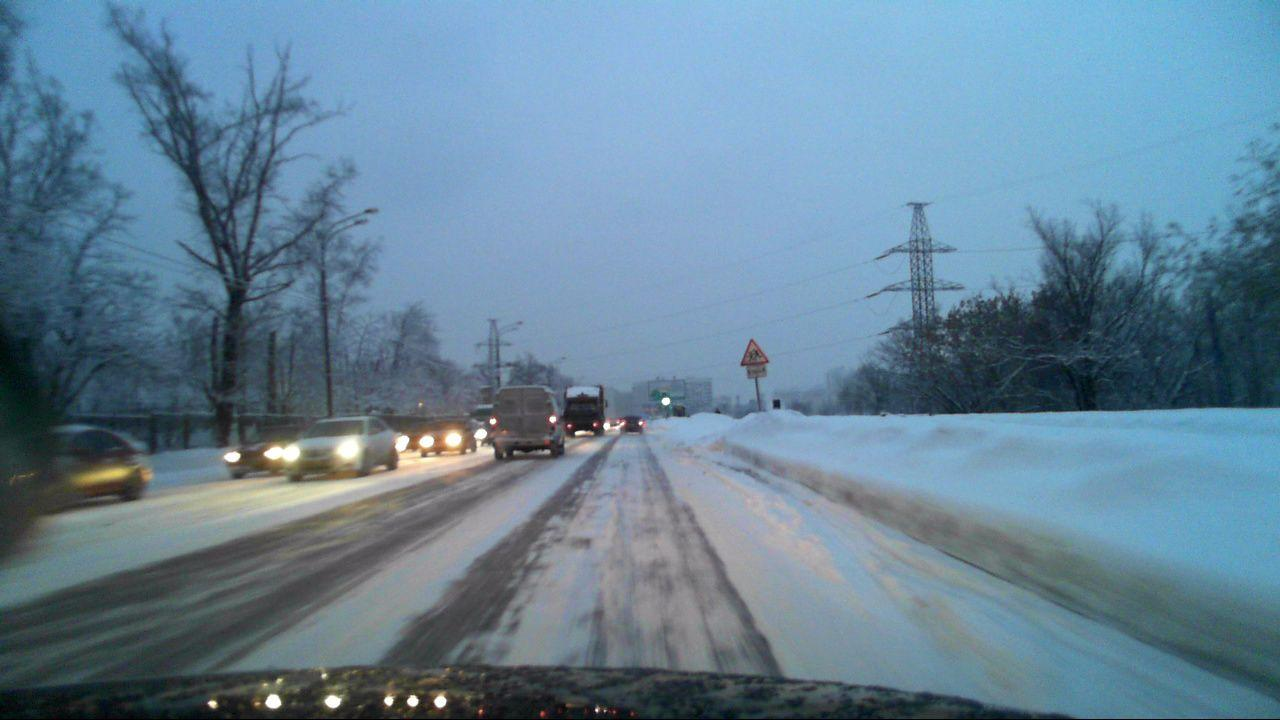1_23: (738, 333, 770, 364)
8_2_1: (747, 365, 767, 381)
